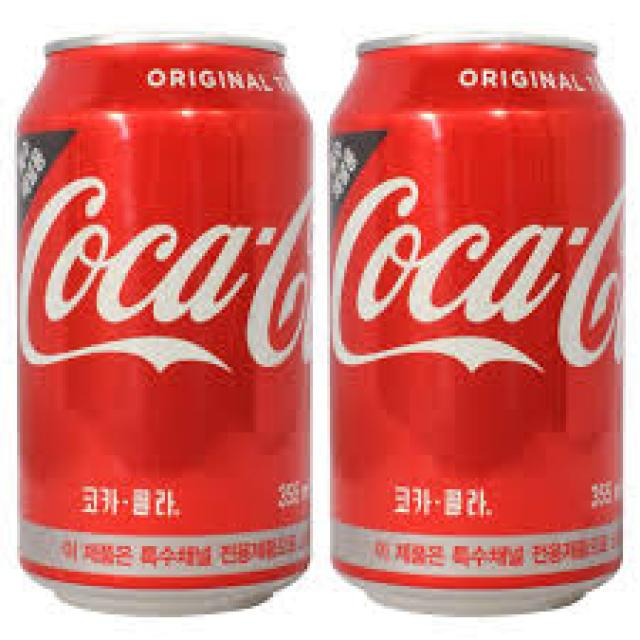Coca-Cola: (8, 23, 317, 623), (324, 21, 629, 620)
